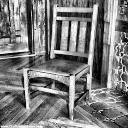chair_success: (16, 0, 101, 120)
